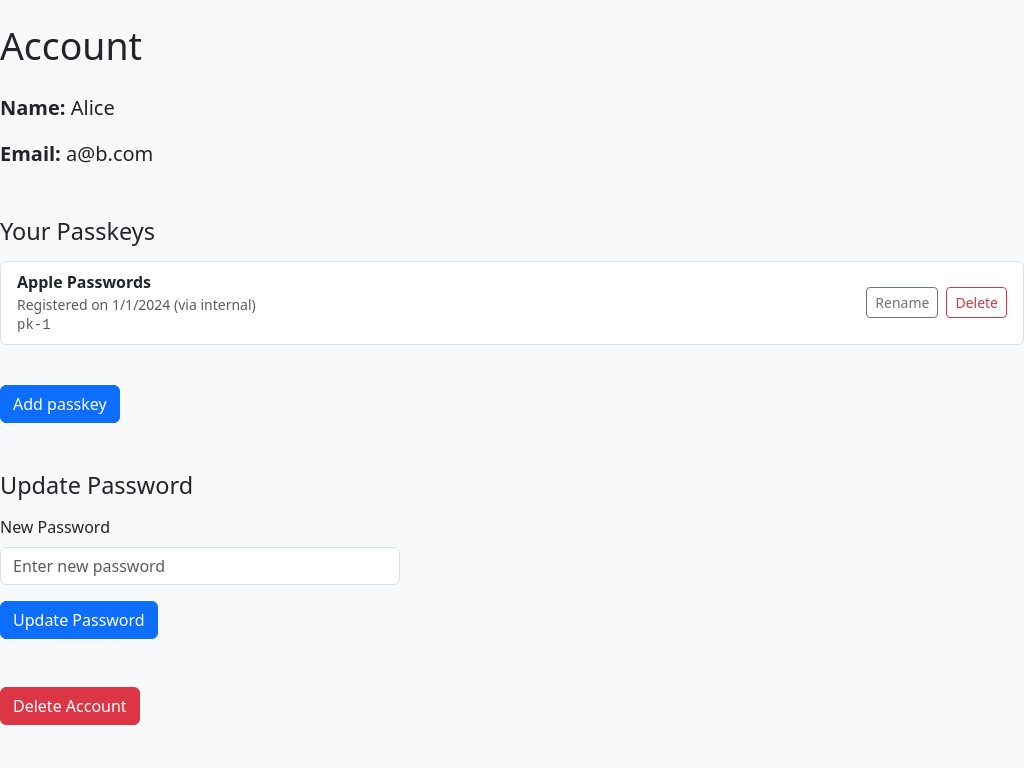
AccountPage — reauthentication › prompts instead of failing when the server asks for reauthentication
The width and height of the screenshot is (1024, 768).
Click the button with aria-label "Delete Apple Passwords": (977, 303) x1=946 y1=288 x2=1007 y2=318
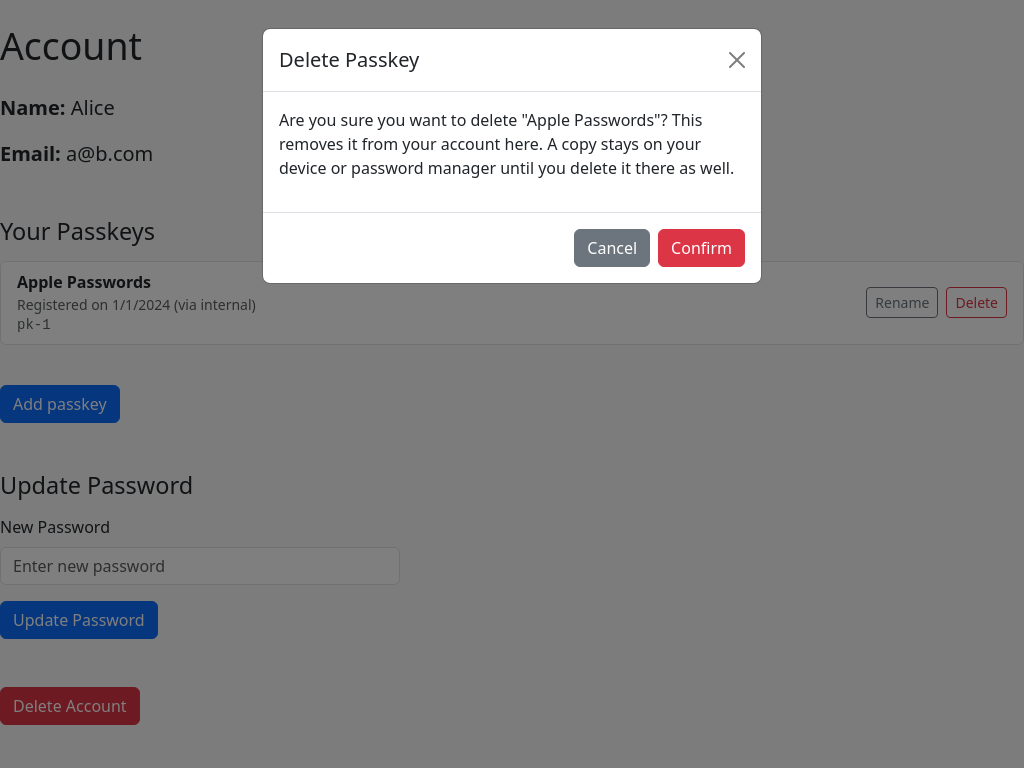
Click the button "Confirm": (702, 248) x1=658 y1=229 x2=745 y2=267
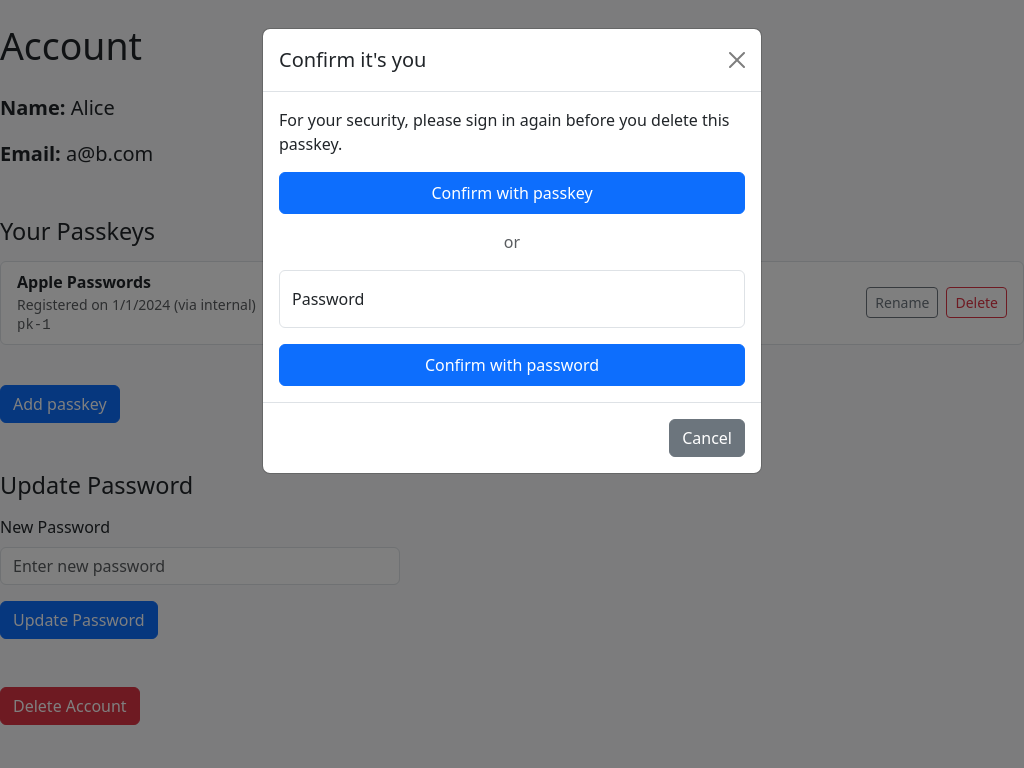
Now the heading "Confirm it's you" is shown, box x1=279 y1=45 x2=426 y2=75
Now the text "before you delete this passkey" is shown, box x1=279 y1=109 x2=730 y2=155
